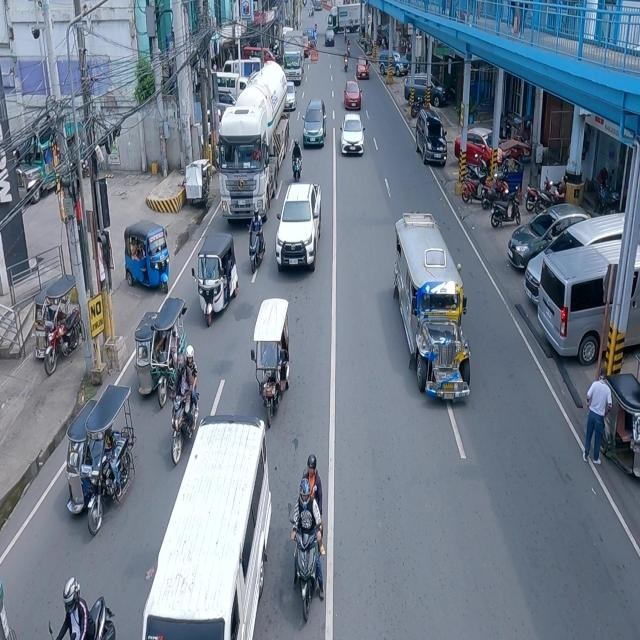Truck: (393, 208, 473, 403), (212, 60, 292, 224)
